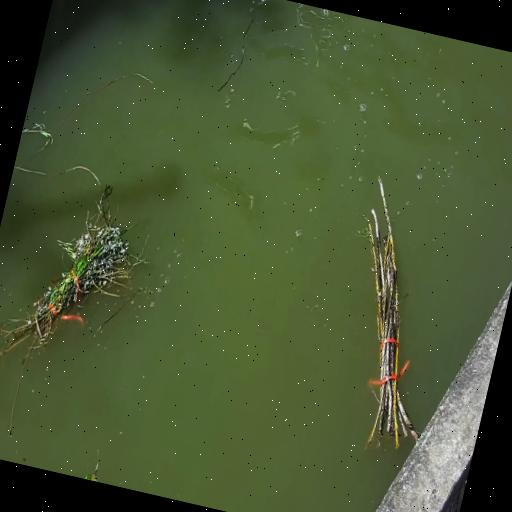twig: (312, 172, 476, 454), (0, 188, 142, 390)
